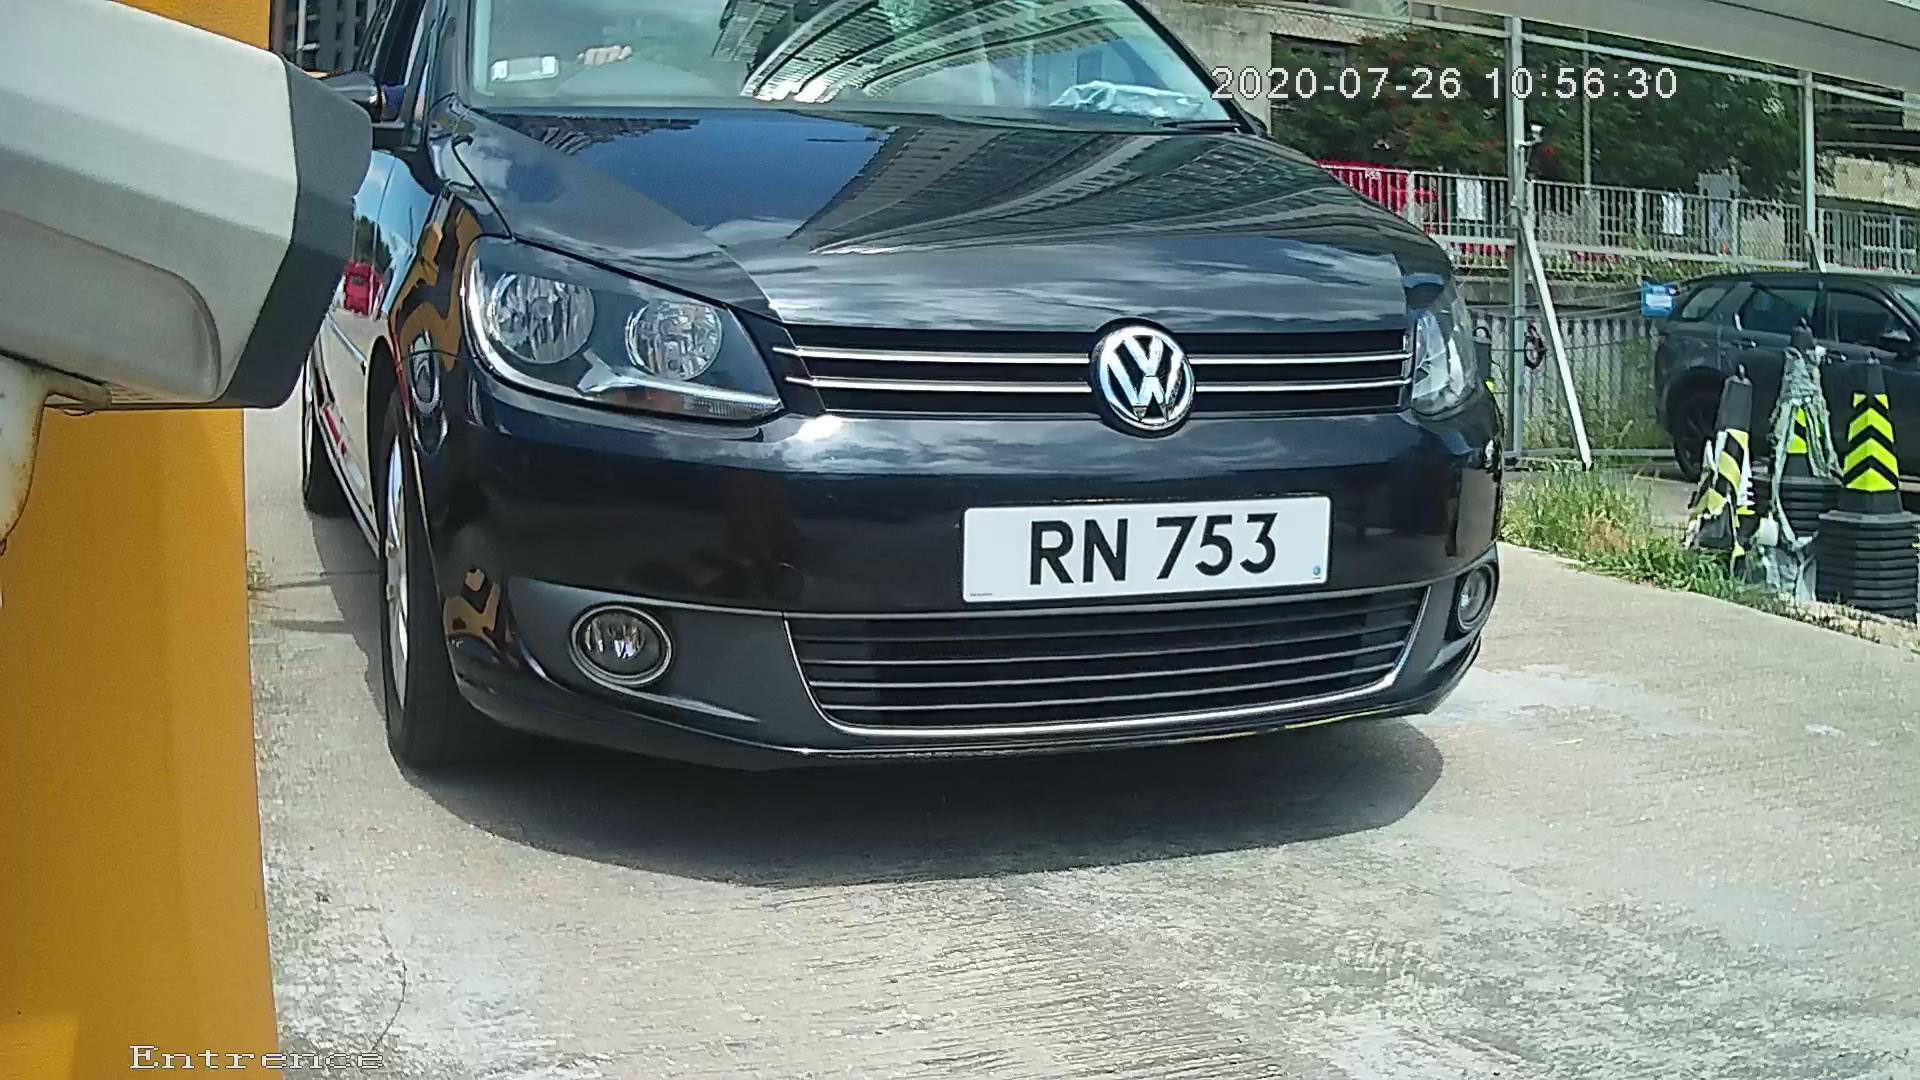privatecar: (232, 20, 1578, 849)
